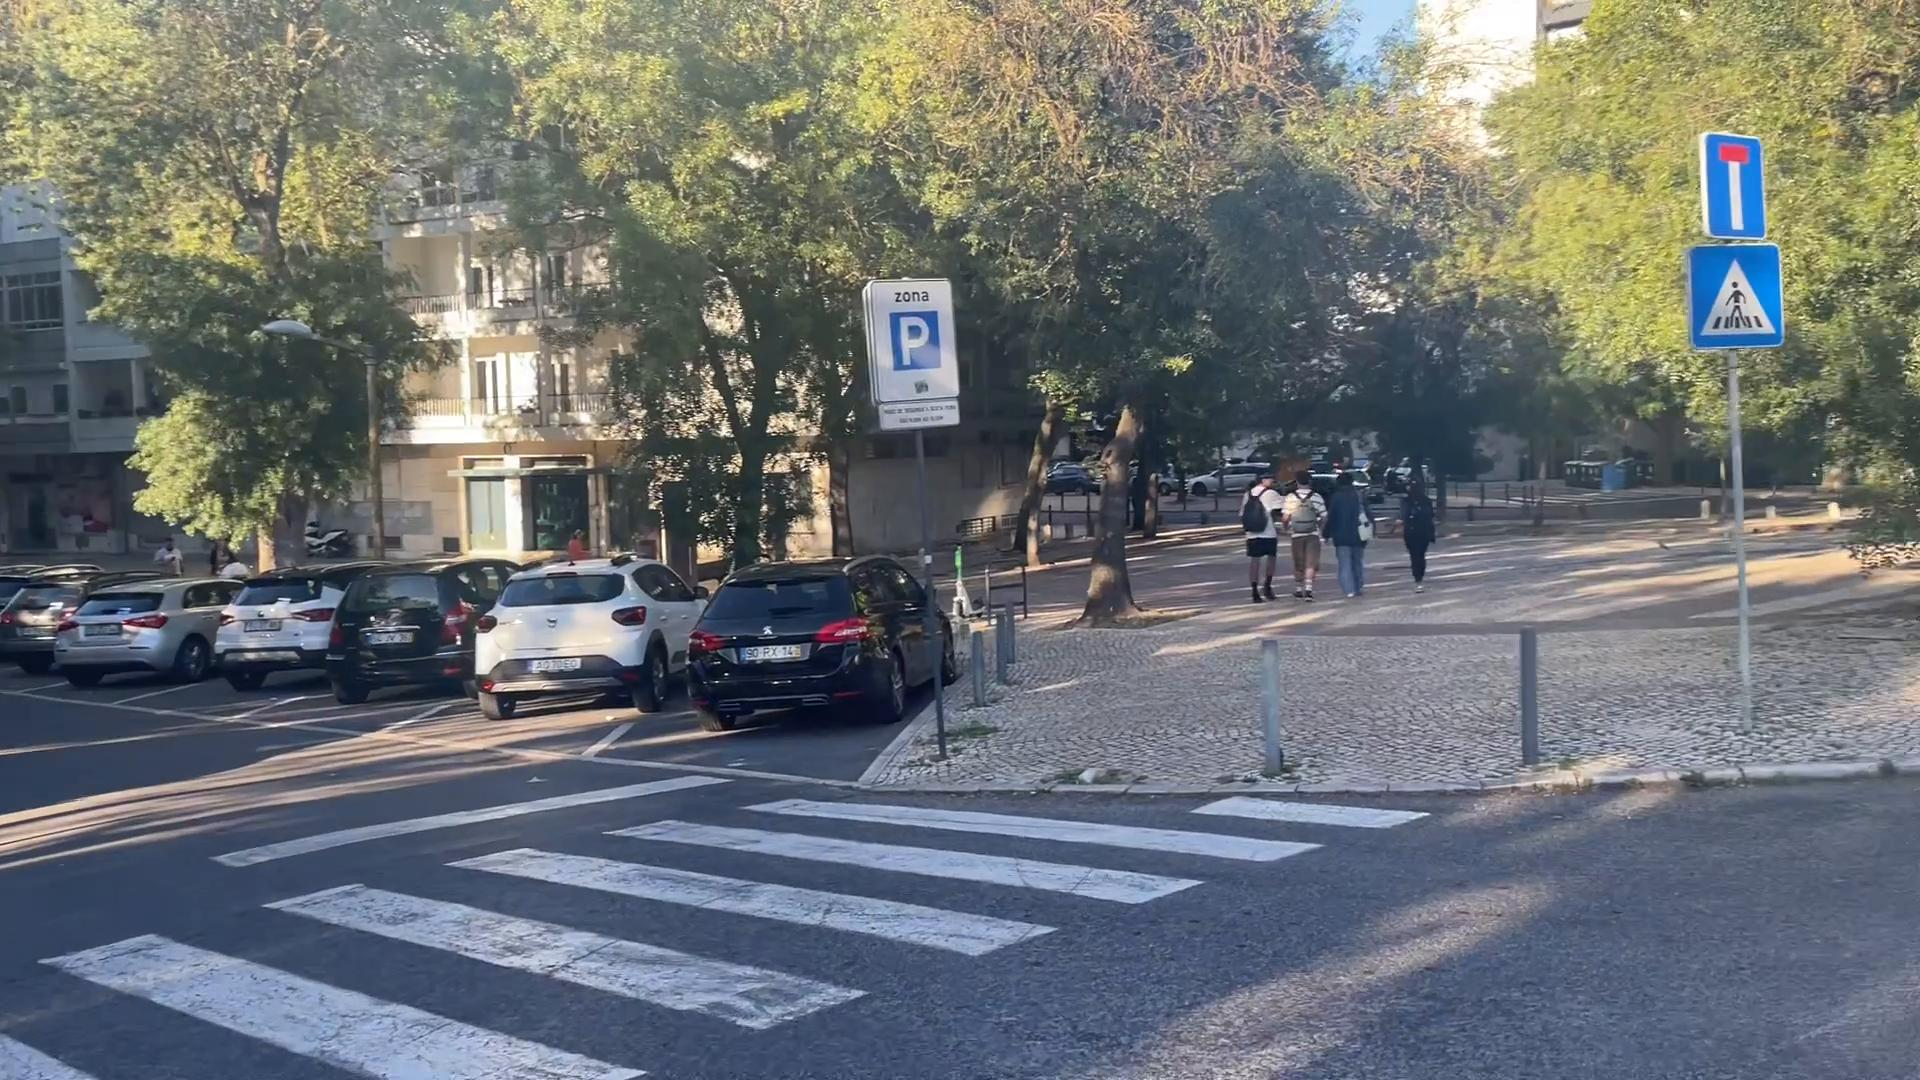Via publica sem saida: (1698, 127, 1774, 247)
zona de estacionamento autorizado: (855, 272, 977, 394)
